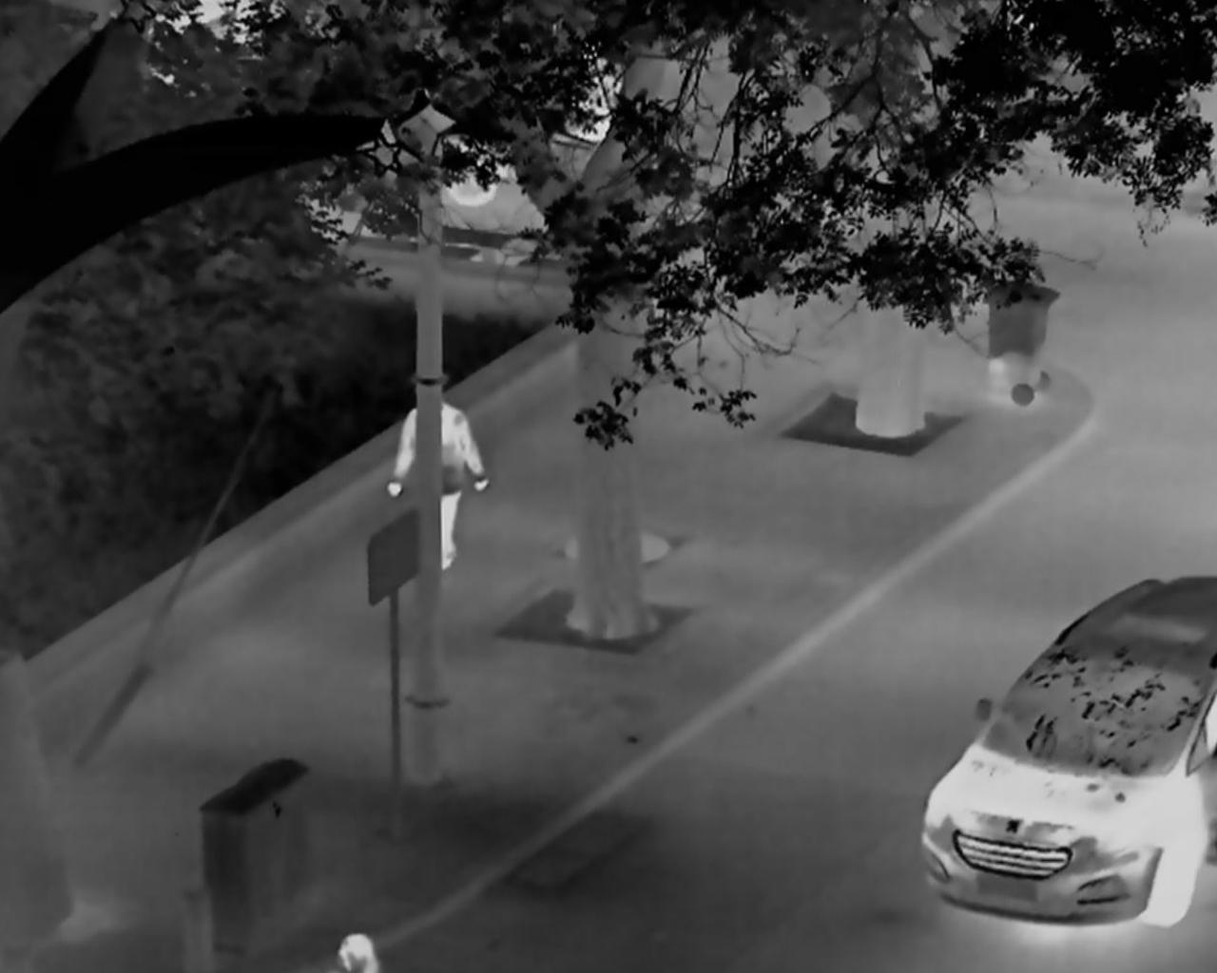person: (386, 391, 491, 569), (335, 931, 379, 973)
